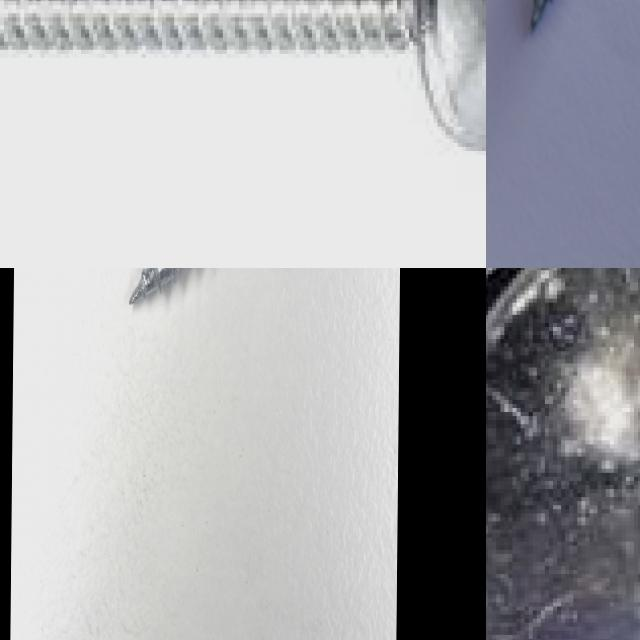Screw: (0, 0, 486, 151), (486, 268, 640, 640)
